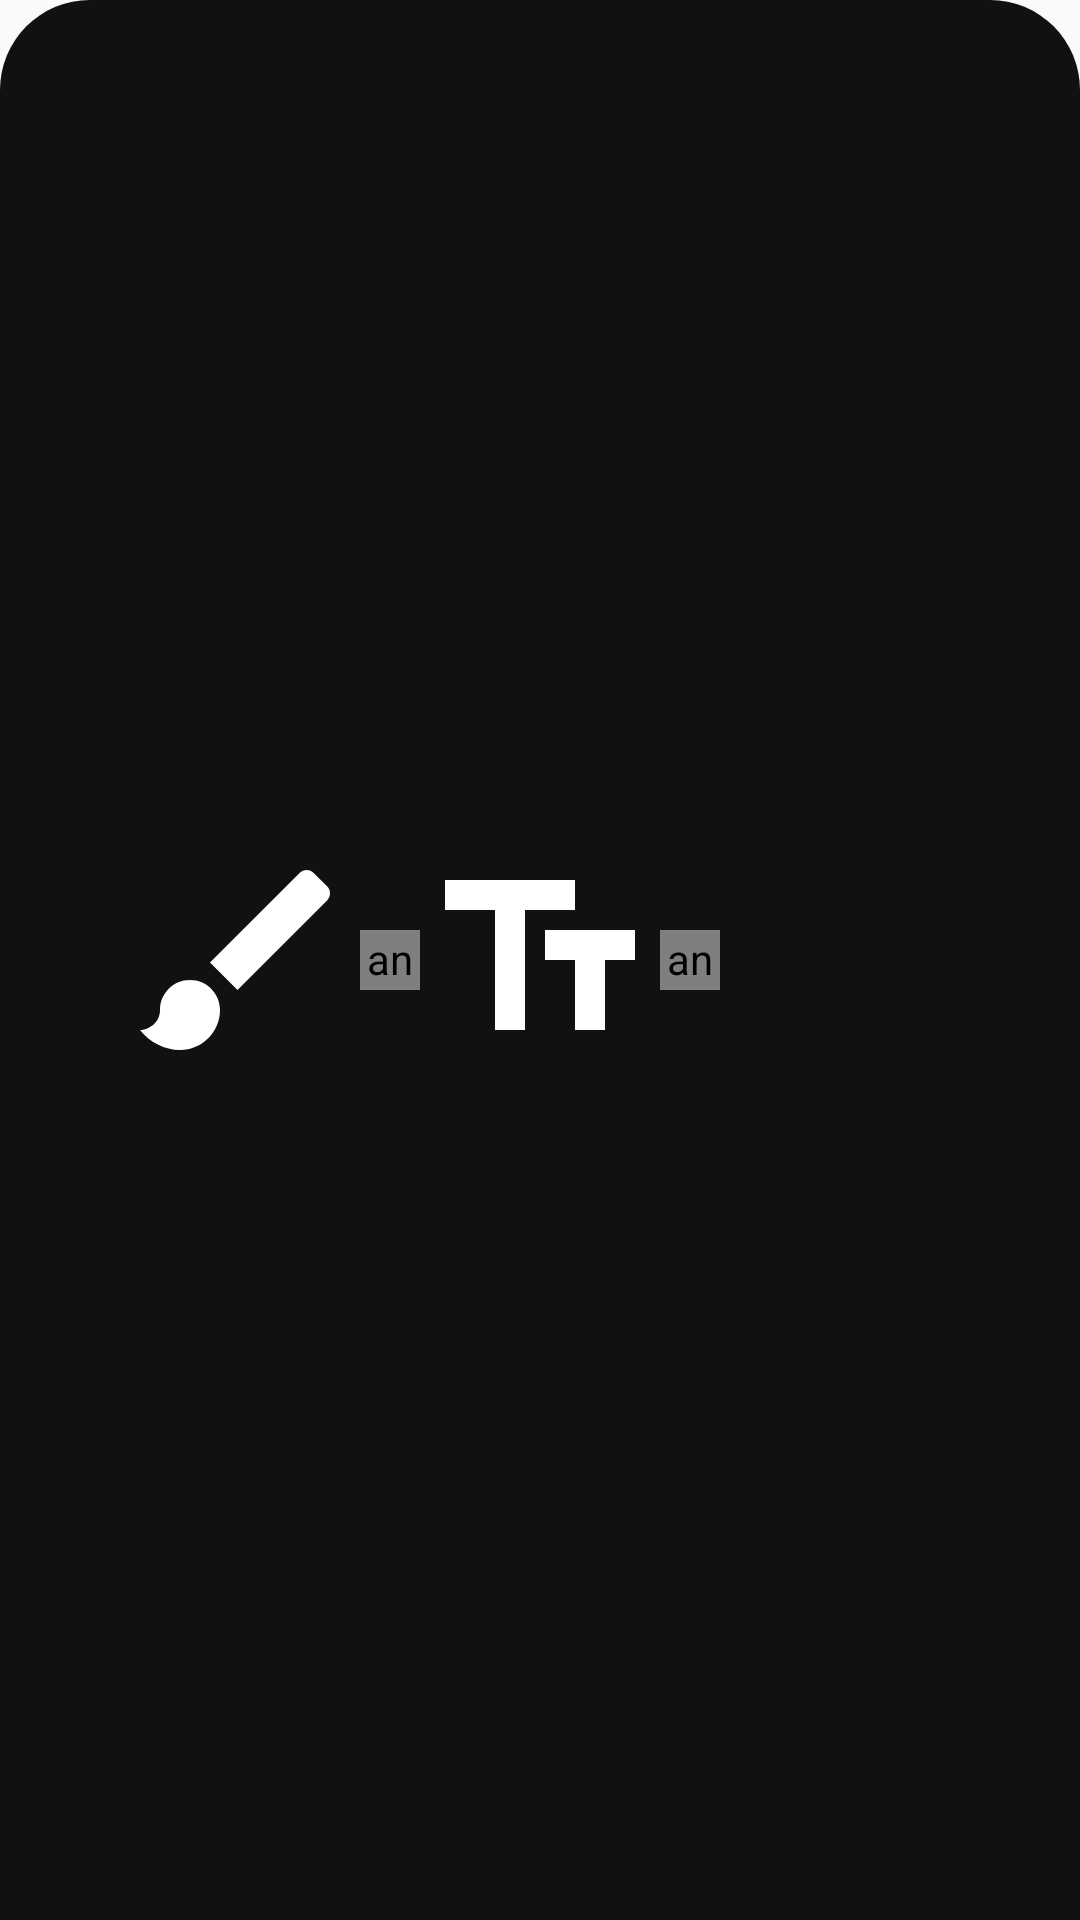

Where icons sit on this 1080 × 1920 app screen, as bbox(x1, y1, x2, y2):
brush: bbox(140, 870, 330, 1050)
text fields: bbox(445, 880, 635, 1030)
